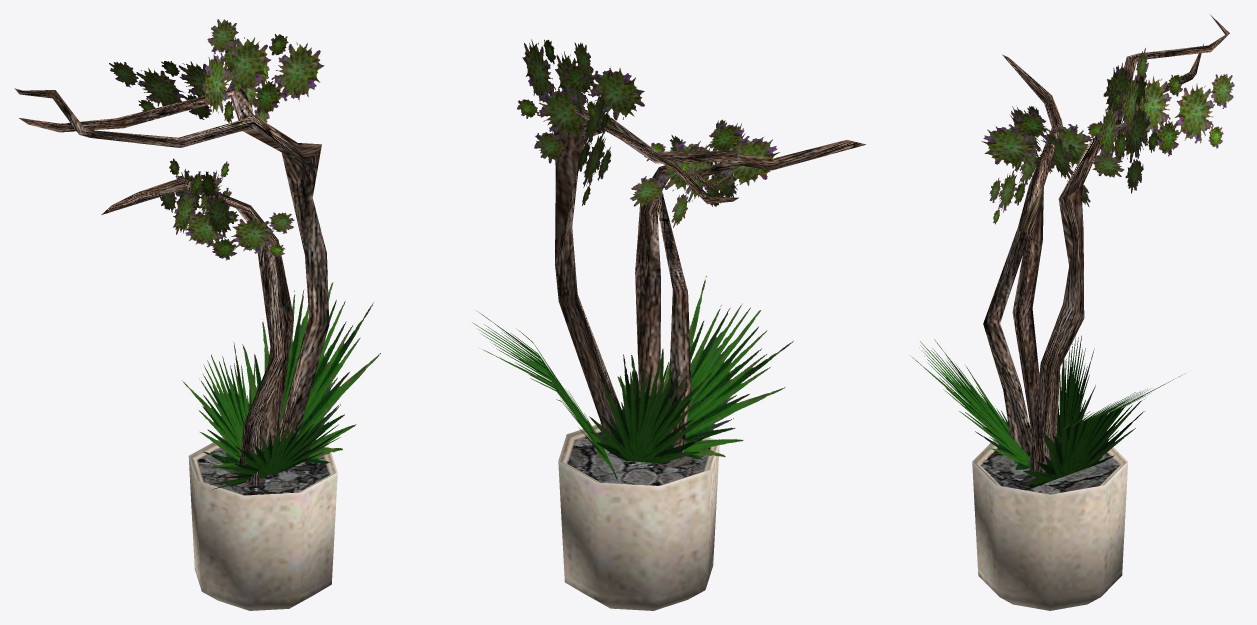
File: frn_all_tree_potted_s2_l1.fbx
3 renders of one model, left to right at view 1: azimuth 30°, elevation 25°; view 2: azimuth 150°, elevation 25°; view 3: azimuth 270°, elevation 25°, orthographic. The views are drawn at different scales.
Parts seen in each view (by area): view 1: mesh_node; view 2: mesh_node; view 3: mesh_node.
Part boxes in pixels (bbox=[...]): mesh_node: bbox=[14, 19, 380, 610]; mesh_node: bbox=[472, 39, 865, 610]; mesh_node: bbox=[911, 14, 1234, 610].
Size of the model in its own units: 1.68 by 2.47 by 1.42.
